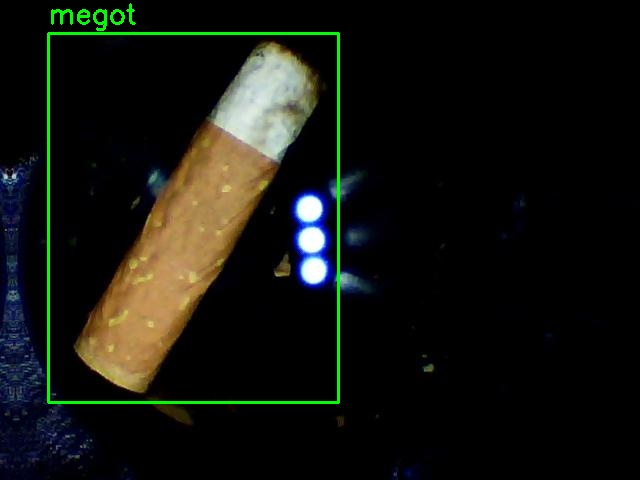megot: (48, 33, 338, 402)
